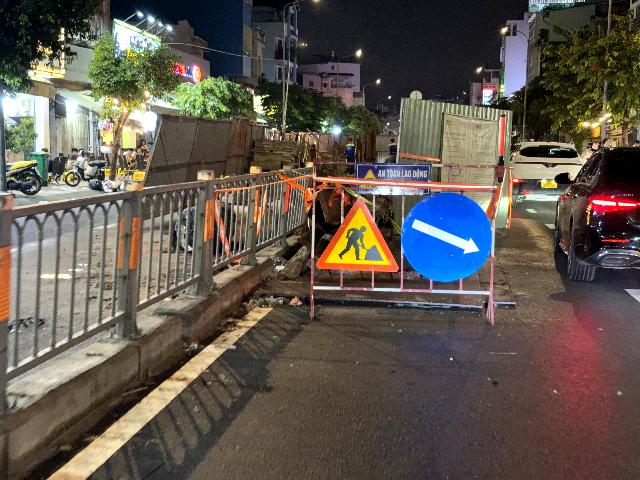cong-truong-dang-thi-cong: (317, 194, 399, 272)
huong-phai-di-vong-chuong-ngai-vat: (401, 190, 492, 281)
